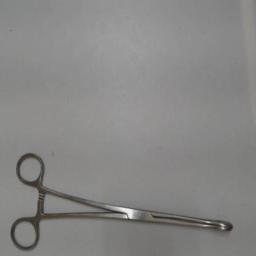Sponge Forceps: (8, 148, 240, 254)
